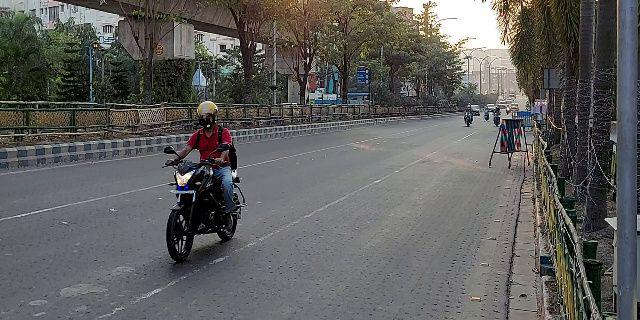Motorbike: (159, 94, 248, 266), (458, 100, 474, 130), (490, 101, 503, 130), (480, 104, 492, 125)
